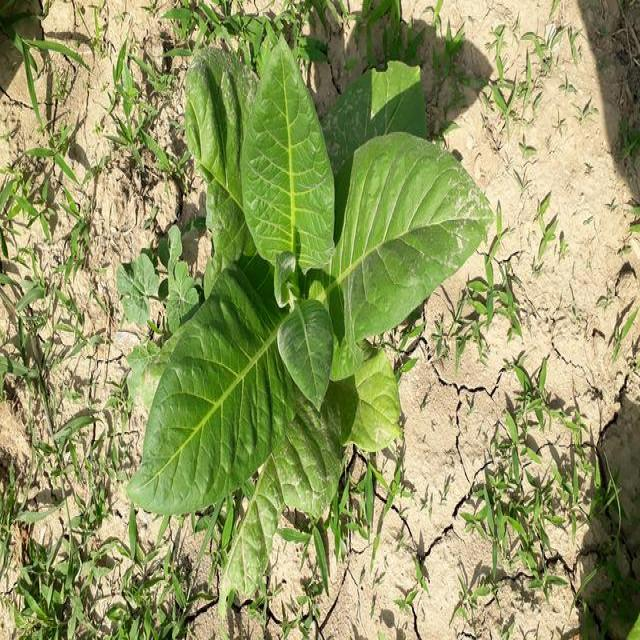crop: (150, 63, 494, 559)
